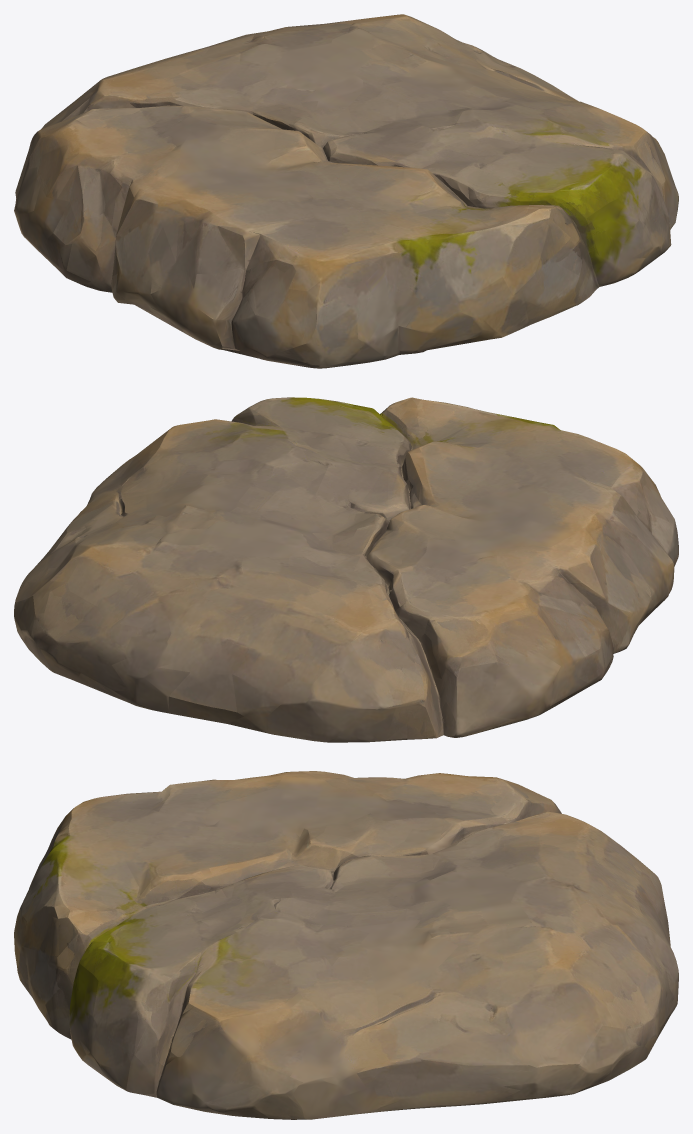
File: mossy-stepping-stone.glb
3 views of the same model, one above another, from view 1: azimuth 30°, elevation 25°; view 2: azimuth 150°, elevation 25°; view 3: azimuth 270°, elevation 25° (orthographic). The views are drawn at different scales.
Visible parts, largest first — view 1: output_unwrapped; view 2: output_unwrapped; view 3: output_unwrapped.
Part boxes in pixels (x1,y1,x2,y2): output_unwrapped: [14, 14, 678, 368]; output_unwrapped: [14, 397, 678, 742]; output_unwrapped: [14, 771, 678, 1119].
Bounding box in the file's own units: 0.65 × 0.12 × 0.6534.
1 material, 1 textured.
